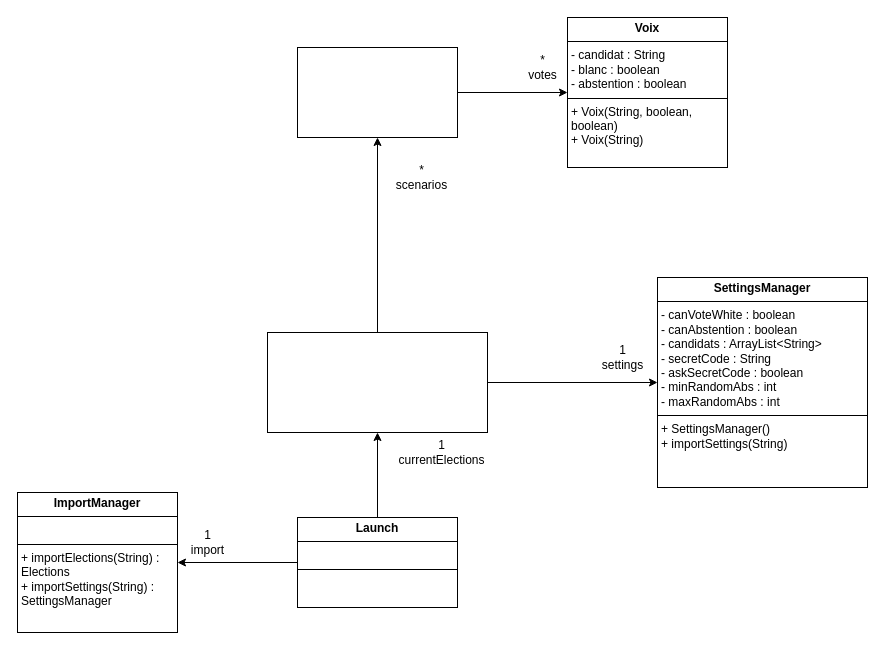
This 885x650 diagram has some shape labels left out. Each missing label, with the centre of its shape:
"Elections + Elections(SettingsManager) + startNewTour() : void" goes at point 377,382.
"Scenario" goes at point 377,92.
